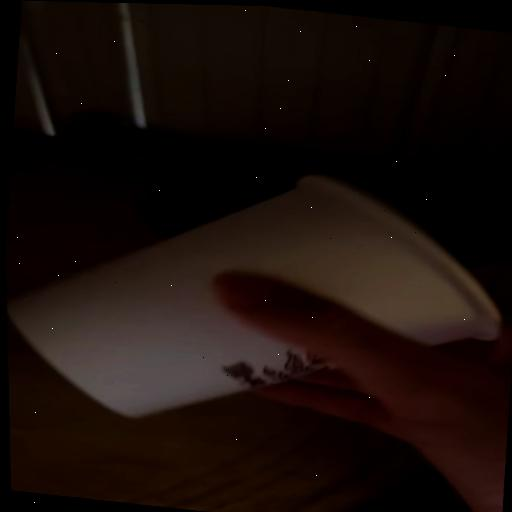Ly_giay: (10, 174, 503, 417)
